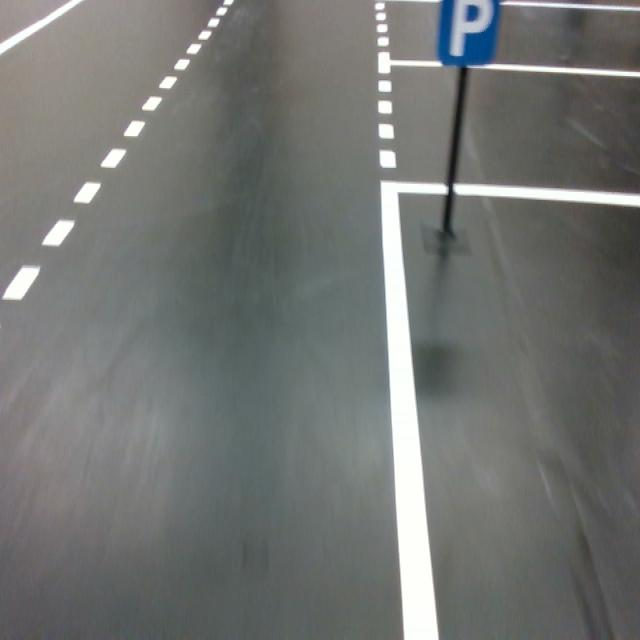parking-sign: (437, 0, 500, 67)
